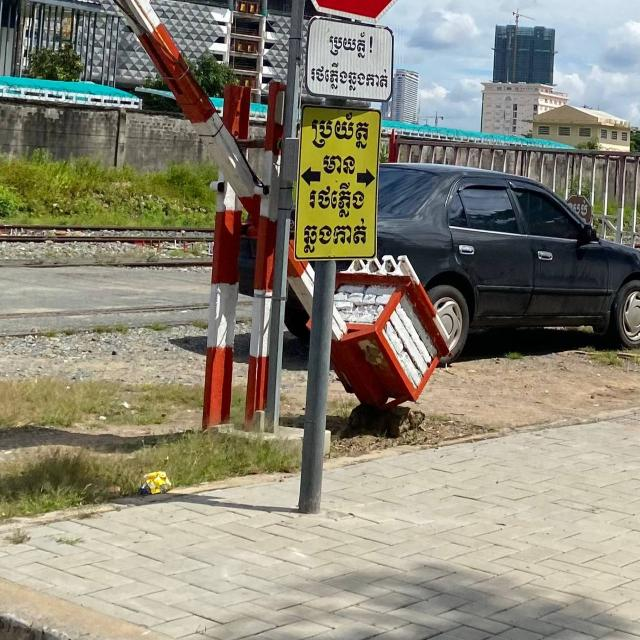Yolov11kh: (308, 58, 392, 99), (307, 107, 376, 153), (300, 216, 370, 255), (324, 23, 377, 62), (306, 182, 365, 217), (322, 154, 356, 174)
